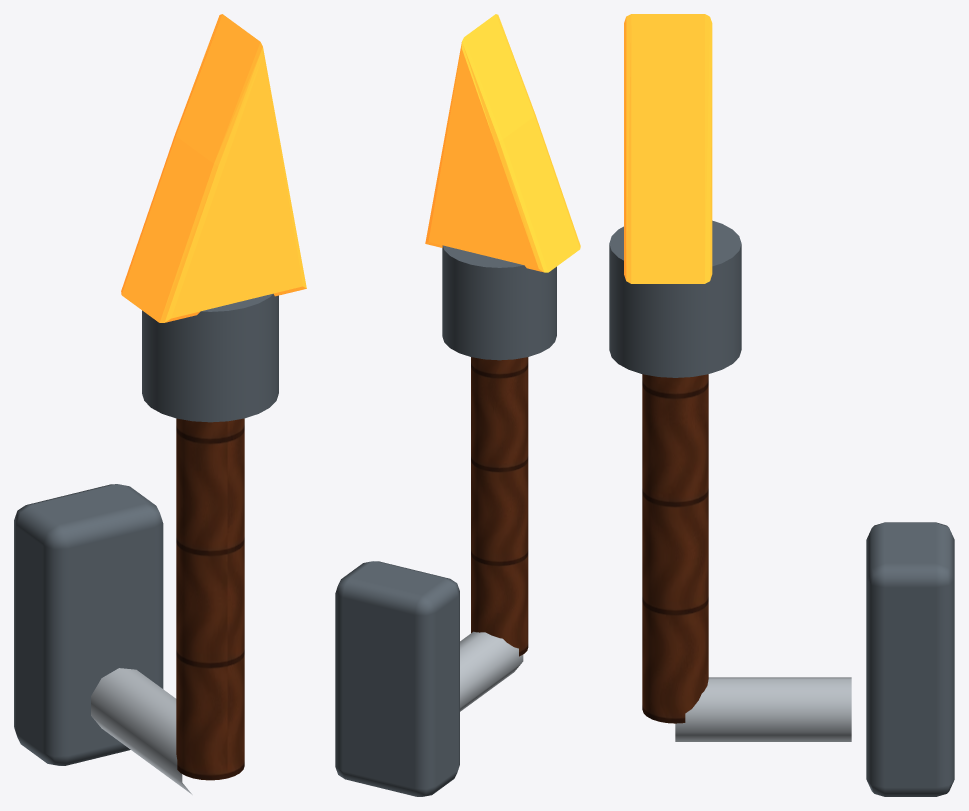
The model's file is arena-shooter-map-kit-torch-f1efb21e__23156.glb.
The picture shows the model from 3 angles, left to right: view 1: azimuth 30°, elevation 25°; view 2: azimuth 150°, elevation 25°; view 3: azimuth 270°, elevation 25°; orthographic projection. The views are drawn at different scales.
Parts seen in each view (by area): view 1: torch; view 2: torch; view 3: torch.
Part boxes in pixels (x1,y1,x2,y2): torch: (14, 14, 306, 794); torch: (335, 14, 580, 796); torch: (609, 14, 954, 796).
Size of the model in its own units: 0.2225 by 1.16 by 0.47.
4 materials, 1 textured.
